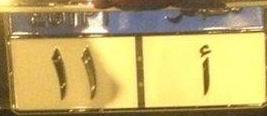1: (48, 46, 70, 101), (80, 47, 99, 103)
alif: (193, 40, 219, 96)
